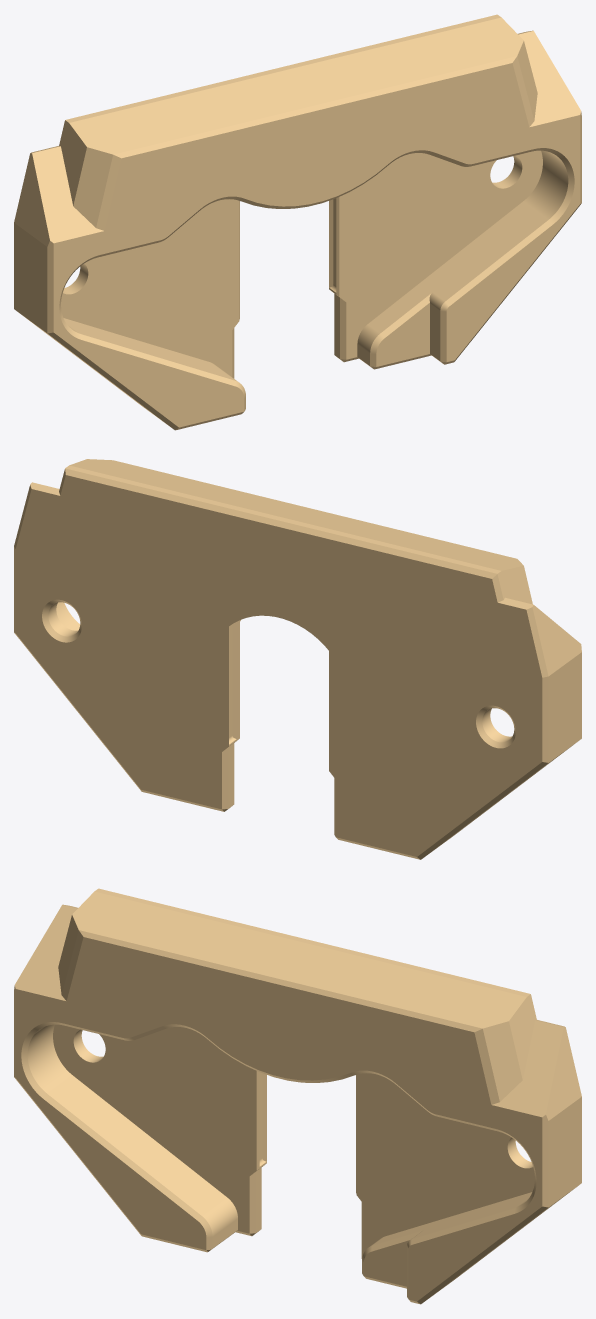
Rendered from Crossbow cutter holder - WW-BMG (Sherpa-Mini spacing).gltf.
3 renders of one model, top to bottom at view 1: azimuth 30°, elevation 25°; view 2: azimuth 150°, elevation 25°; view 3: azimuth 330°, elevation 25°, orthographic.
Visible parts, largest first — view 1: Crossbow cutter holder - WW-BMG (Sherpa-Mini spacing); view 2: Crossbow cutter holder - WW-BMG (Sherpa-Mini spacing); view 3: Crossbow cutter holder - WW-BMG (Sherpa-Mini spacing).
Part boxes in pixels (<box>): Crossbow cutter holder - WW-BMG (Sherpa-Mini spacing): <box>14,14,581,430</box>; Crossbow cutter holder - WW-BMG (Sherpa-Mini spacing): <box>14,459,581,859</box>; Crossbow cutter holder - WW-BMG (Sherpa-Mini spacing): <box>14,888,581,1304</box>.
Bounding box in the file's own units: 0.0536 × 0.0292 × 0.0066.
